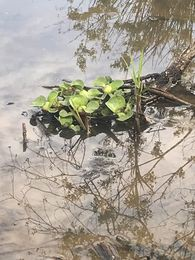water_hyacinth: (26, 59, 172, 129)
